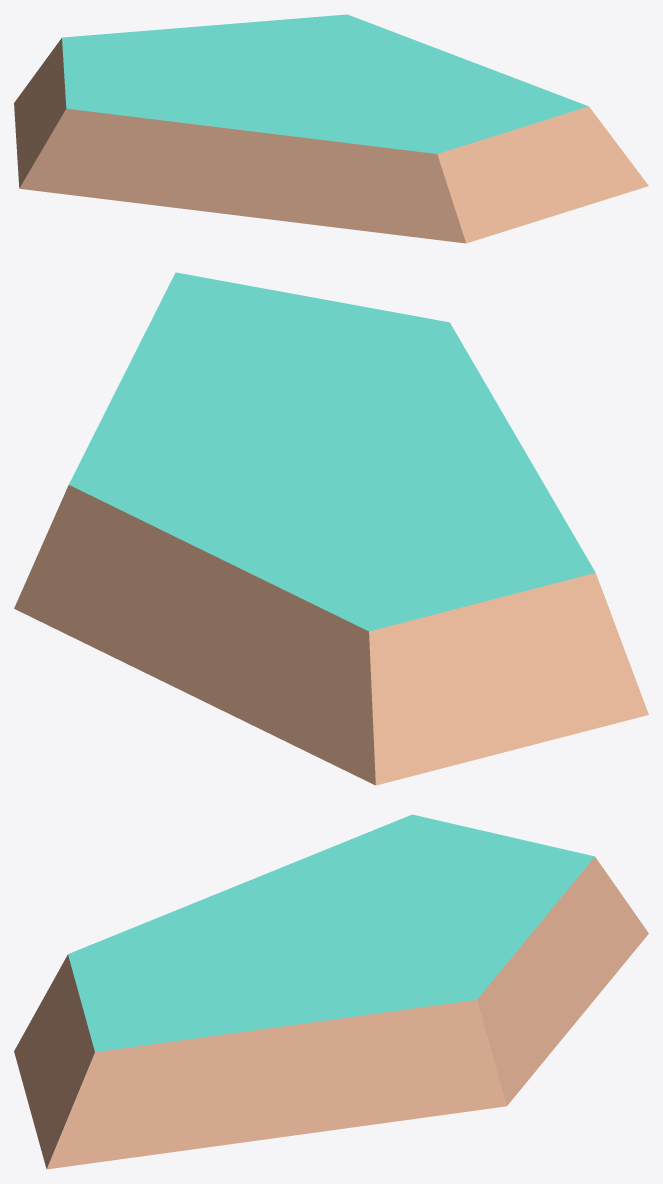
The model's file is rock_smallflatb.glb.
3 views of the same model, one above another, from view 1: azimuth 30°, elevation 25°; view 2: azimuth 150°, elevation 25°; view 3: azimuth 270°, elevation 25° (orthographic). The views are drawn at different scales.
Visible parts, largest first — view 1: rock_smallFlatB; view 2: rock_smallFlatB; view 3: rock_smallFlatB.
Boxes of the visible parts, x1,y1,x2,y2 form: rock_smallFlatB: [14, 14, 648, 243]; rock_smallFlatB: [14, 272, 648, 785]; rock_smallFlatB: [14, 814, 648, 1169].
Bounding box in the file's own units: 0.4295 × 0.0649 × 0.4024.
